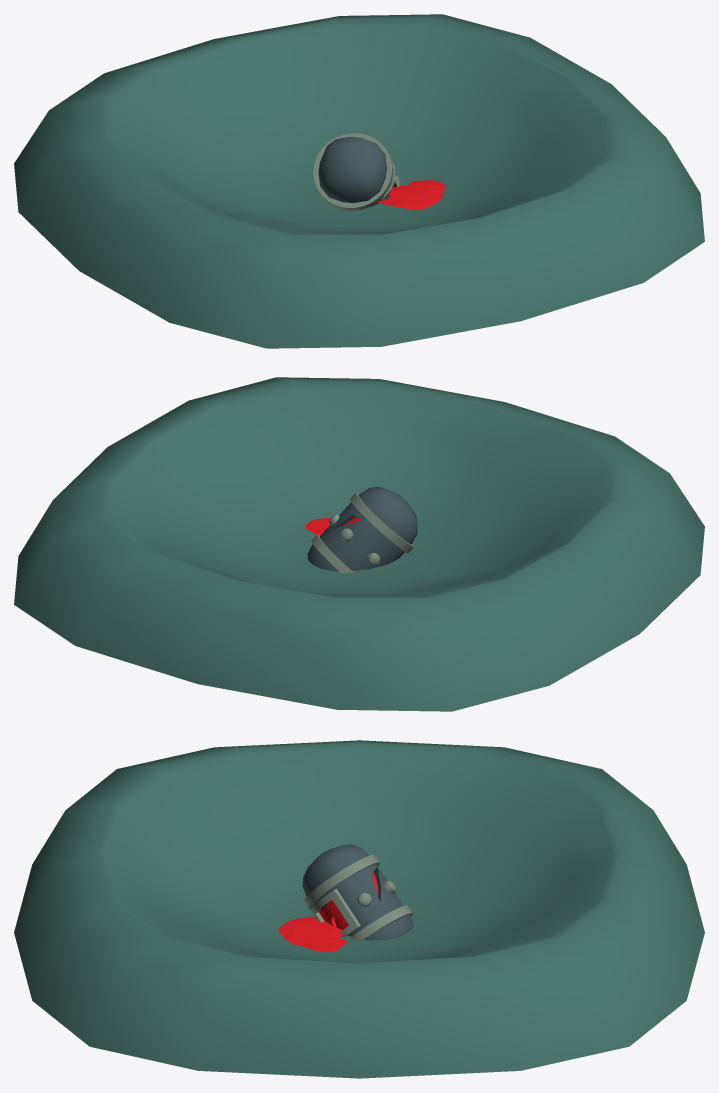
Rendered from Crater.fbx.
3 renders of one model, top to bottom at view 1: azimuth 30°, elevation 25°; view 2: azimuth 150°, elevation 25°; view 3: azimuth 270°, elevation 25°, orthographic. The views are drawn at different scales.
Parts seen in each view (by area): view 1: Plane, Cube, Cylinder.001, Sphere; view 2: Plane, Cube, Cylinder.001; view 3: Plane, Cube, Sphere, Cylinder.001, Plane.001, Cylinder, Sphere.001.
Part boxes in pixels (box(x1,y1,x2,y2)): Plane: box(14, 14, 704, 348); Cube: box(318, 137, 393, 206); Cylinder.001: box(313, 133, 393, 210); Sphere: box(378, 185, 442, 210); Plane: box(14, 377, 704, 711); Cube: box(307, 486, 417, 571); Cylinder.001: box(350, 493, 414, 552); Plane: box(14, 740, 704, 1078); Cube: box(302, 844, 413, 940); Sphere: box(278, 916, 343, 945); Cylinder.001: box(304, 854, 379, 909); Plane.001: box(310, 889, 360, 937); Cylinder: box(350, 905, 413, 940); Sphere.001: box(301, 937, 346, 952).
Bounding box in the file's own units: 1869 × 332 × 1869.
